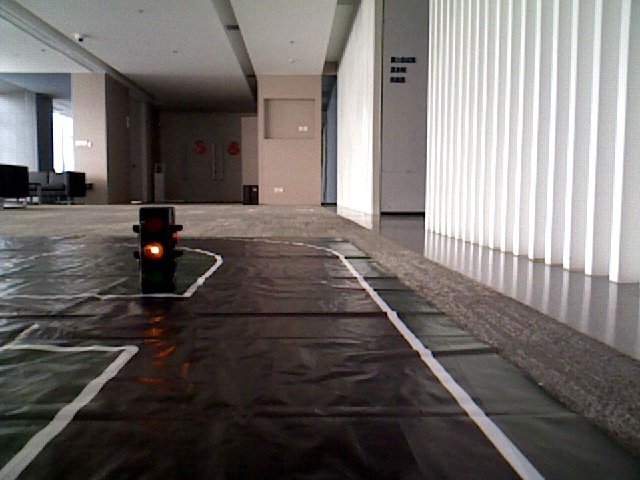yellow: (138, 208, 173, 285)
